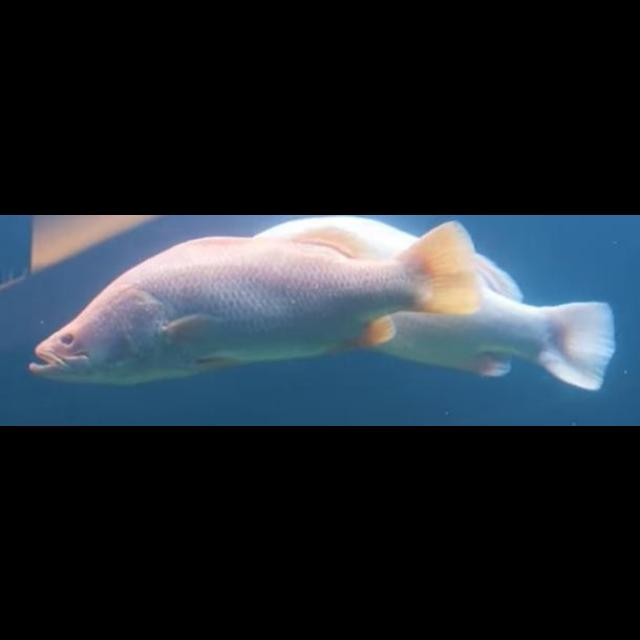Seabass: (30, 218, 484, 384)
